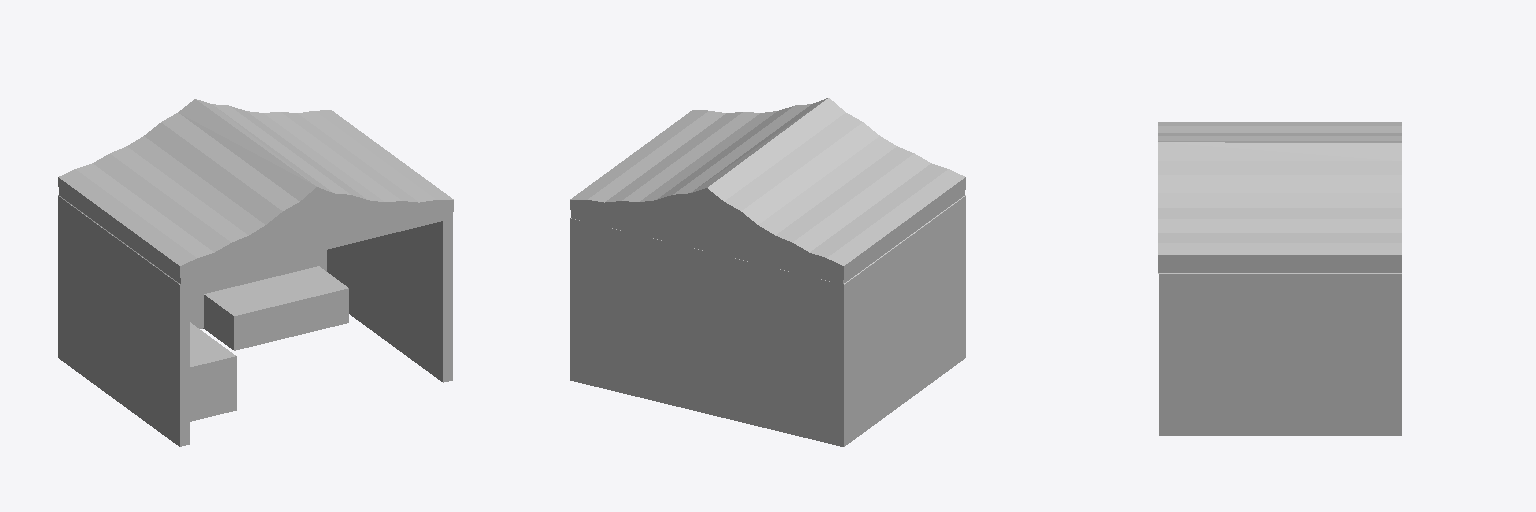
File: InventoryWarehouse.obj
The picture shows the model from 3 angles: view 1: azimuth 30°, elevation 25°; view 2: azimuth 150°, elevation 25°; view 3: azimuth 270°, elevation 25°; orthographic projection.
Parts seen in each view (by area): view 1: pCube6, pCube1, pCube3, pCube5, pCube4, pCube2; view 2: pCube6, pCube2, pCube1; view 3: pCube3, pCube6, pCube2.
Boxes of the visible parts, <box> form: pCube6: <box>58,99,453,284</box>; pCube1: <box>58,196,189,446</box>; pCube3: <box>327,219,452,382</box>; pCube5: <box>203,266,348,350</box>; pCube4: <box>190,322,236,421</box>; pCube2: <box>190,250,326,328</box>; pCube6: <box>570,98,965,284</box>; pCube2: <box>570,218,843,446</box>; pCube1: <box>844,196,965,446</box>; pCube3: <box>1159,274,1389,435</box>; pCube6: <box>1158,122,1401,273</box>; pCube2: <box>1390,274,1401,435</box>.
Size of the model in its own units: 15.82 by 12.56 by 12.21.